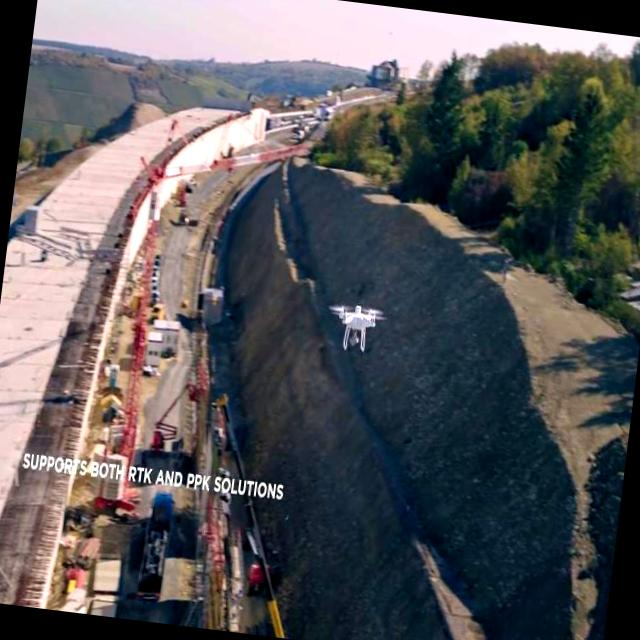drone: (320, 295, 391, 358)
